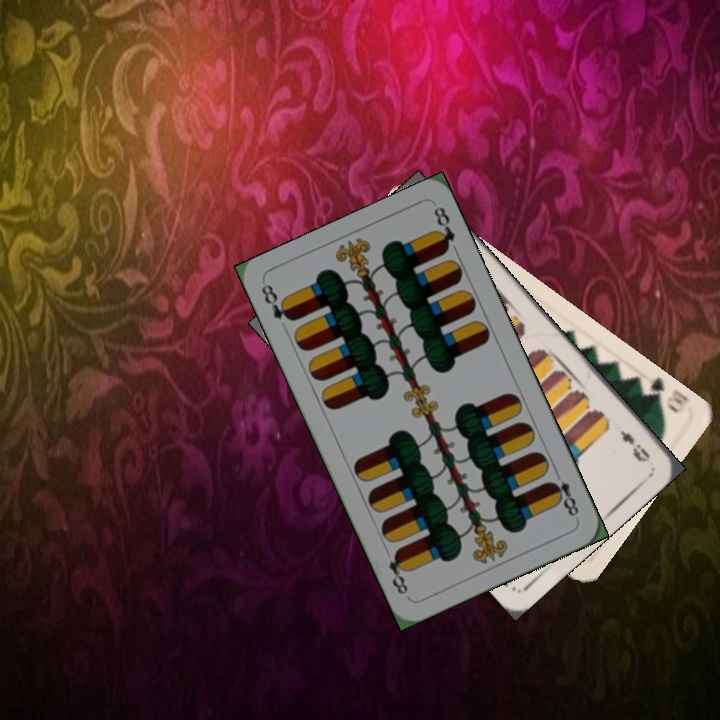E8: (545, 466, 582, 519), (257, 280, 296, 324)
E9: (615, 425, 653, 465)
G10: (636, 372, 692, 416)
